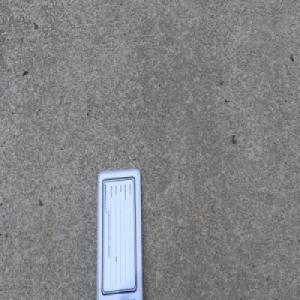LuggageTag: (94, 166, 144, 300)
